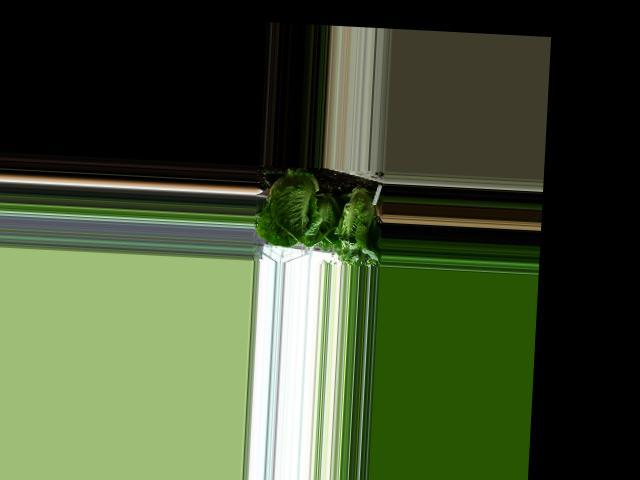lettuce: (332, 176, 379, 259)
